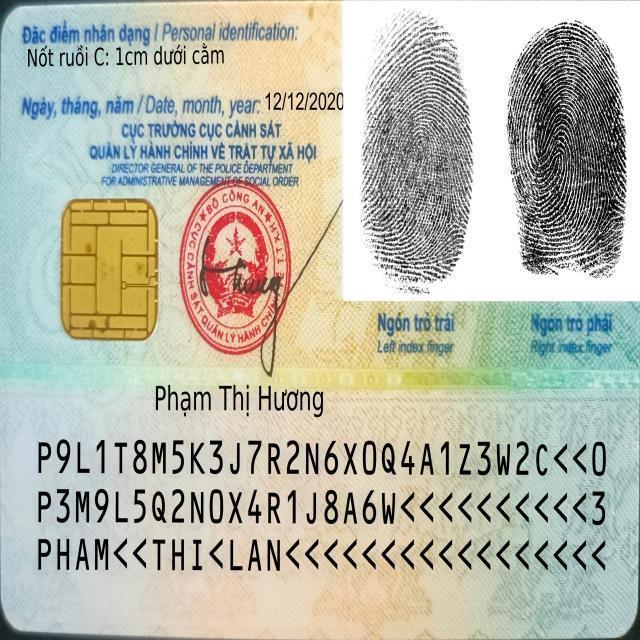features: (22, 44, 234, 72)
finger_print: (344, 1, 488, 359), (493, 2, 636, 358)
issue_date: (264, 85, 346, 114)
